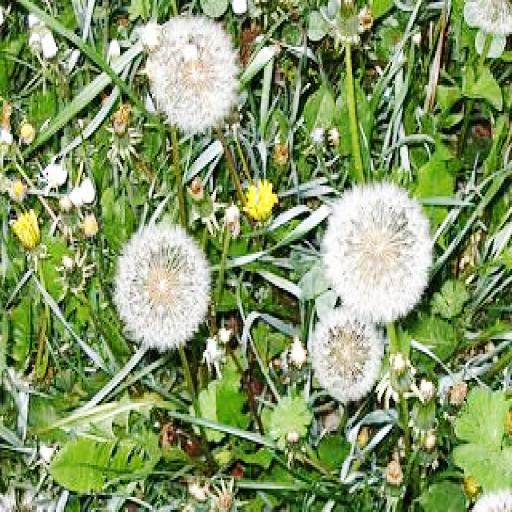dandelion: (322, 184, 430, 326), (114, 226, 214, 350), (147, 17, 237, 128), (310, 307, 382, 395)
